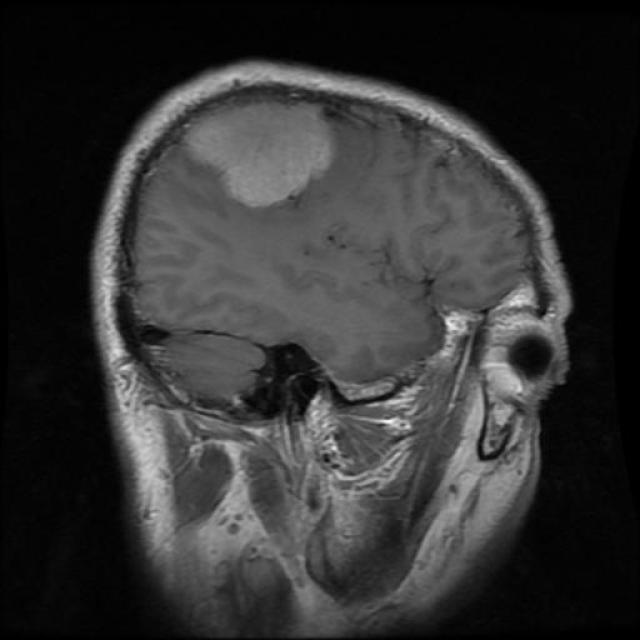meningioma: (182, 102, 338, 209)
